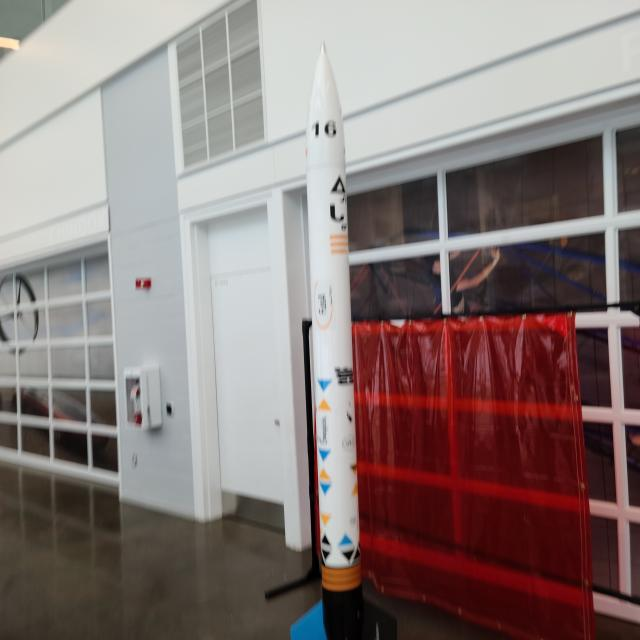Rocket: (290, 38, 397, 640)
